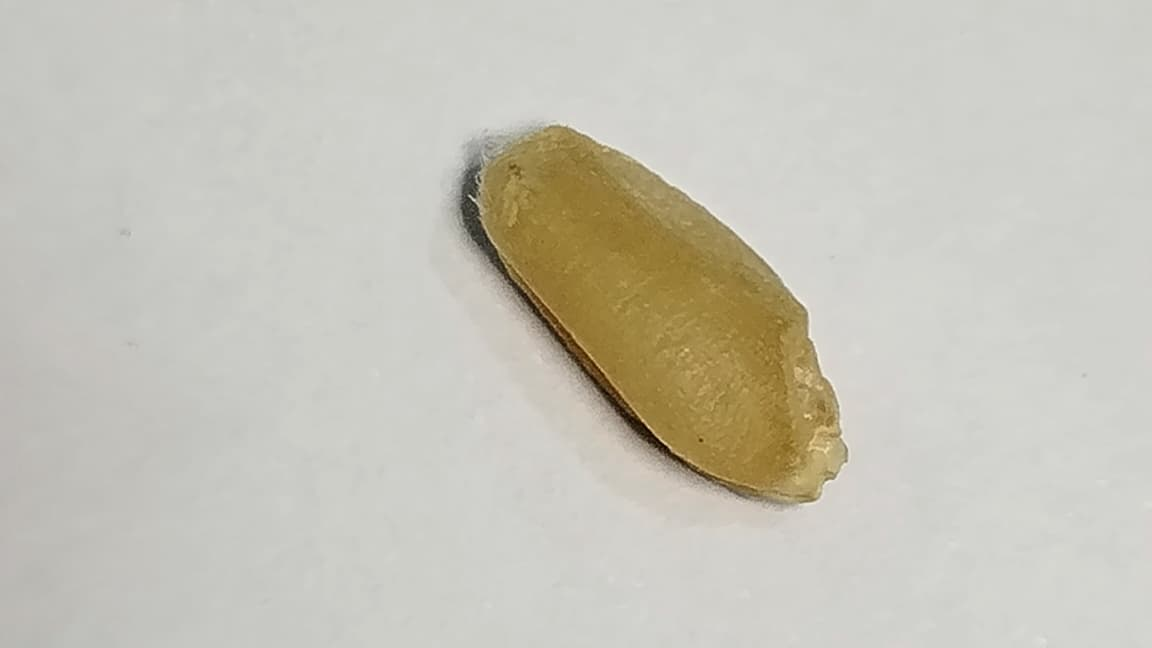healthy: (476, 125, 846, 501)
